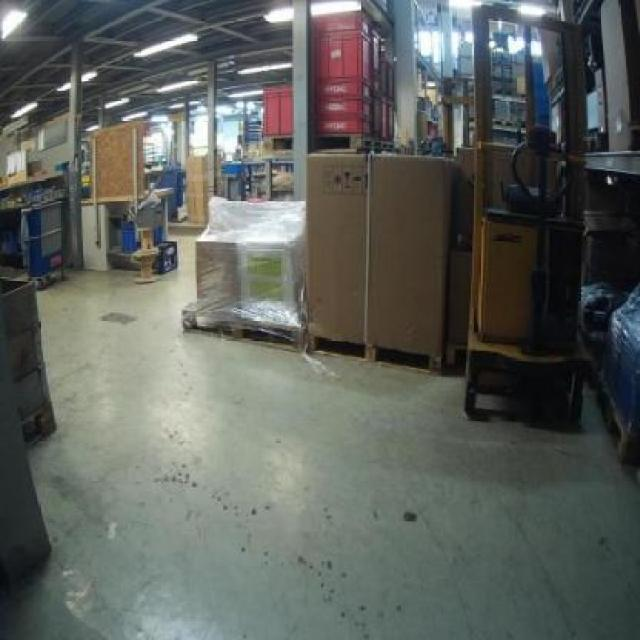pallet: (310, 320, 452, 382), (166, 303, 304, 357)
